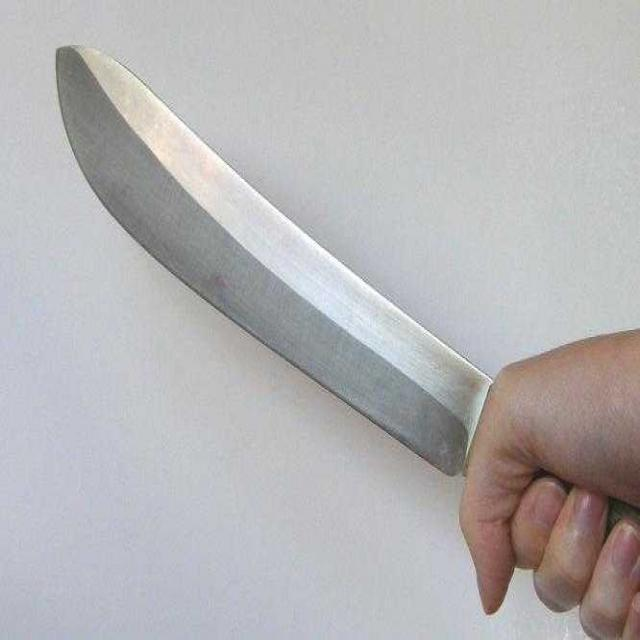knife: (46, 27, 640, 578)
